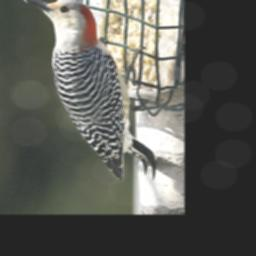Woodpecker: (22, 0, 156, 181)
